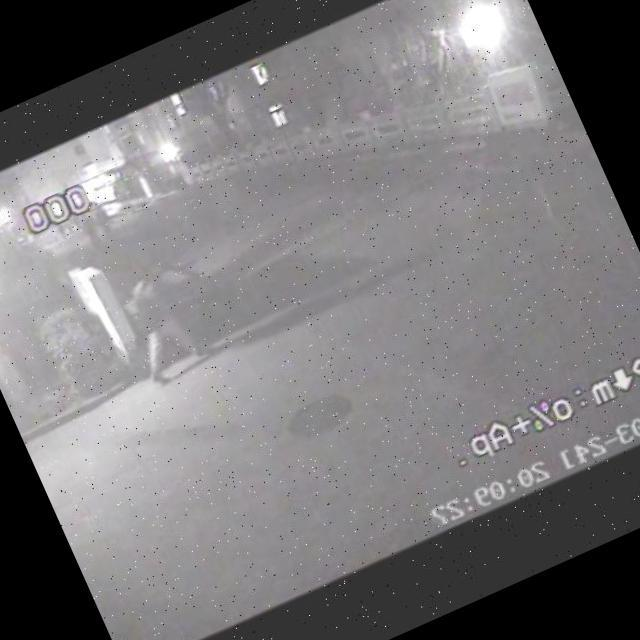person: (98, 246, 218, 392)
